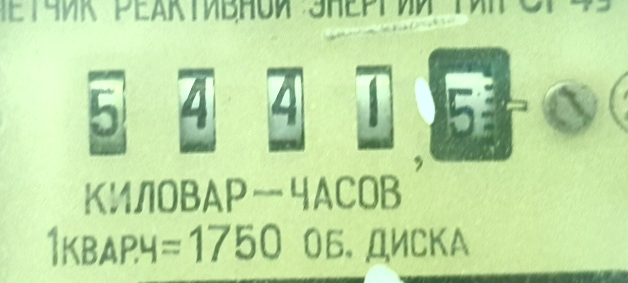1: (360, 73, 385, 131)
4: (266, 67, 304, 134), (177, 71, 214, 133)
5: (444, 81, 480, 144), (85, 83, 124, 141)
screen: (62, 17, 538, 191)
